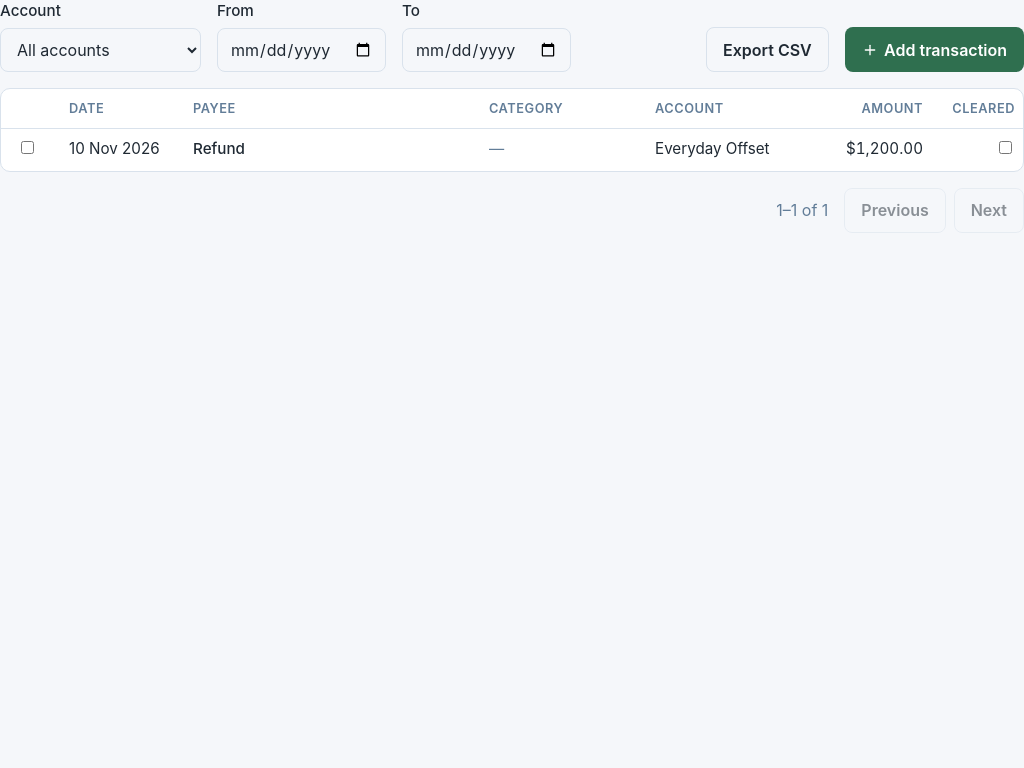
TransactionsPage › edits keep direction and amount; delete needs a second click
Click the text "Refund": click(219, 149) [193,139,245,158]
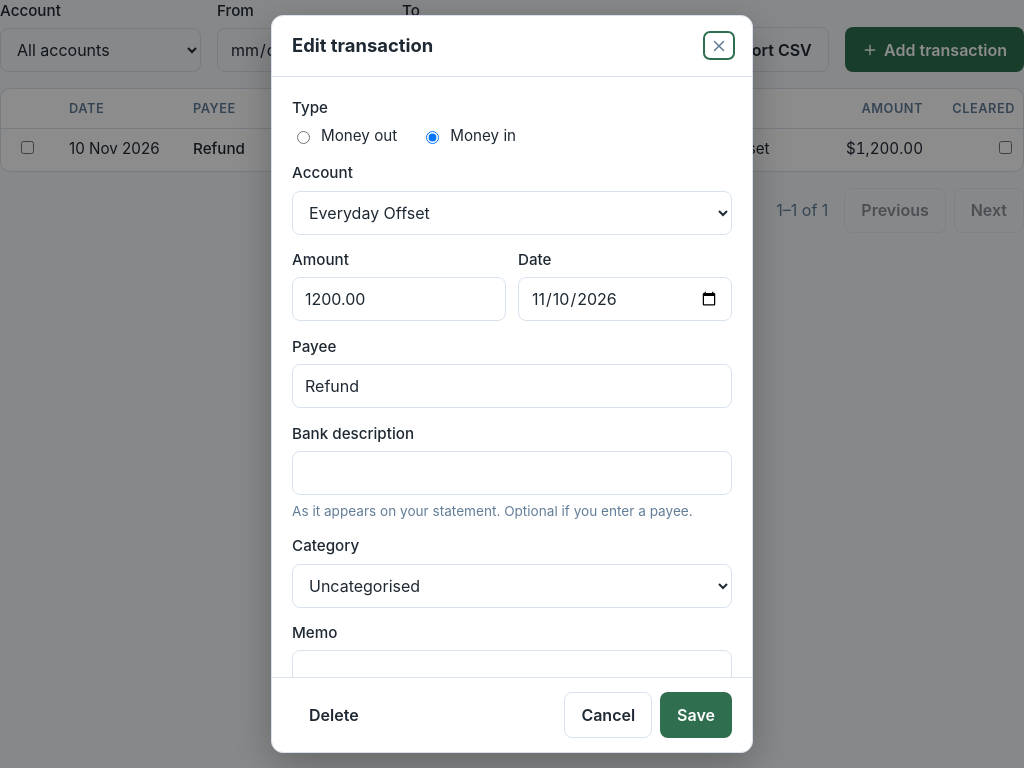
Expected: the radio button labelled "Money in" is checked, [426,131,439,144]
Expected: the field labelled "Amount" holds "1200.00", [292,277,506,321]
Click the button "Save": click(696, 715) [660,692,732,738]
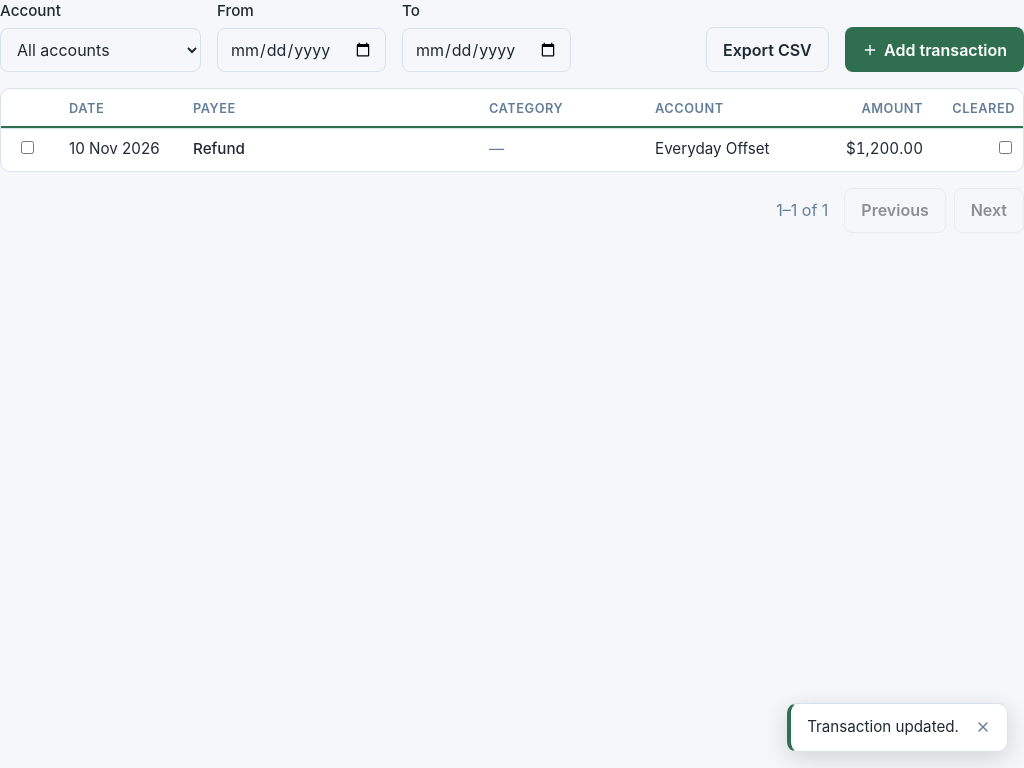
Click the text "Refund": click(219, 149) [193,139,245,158]
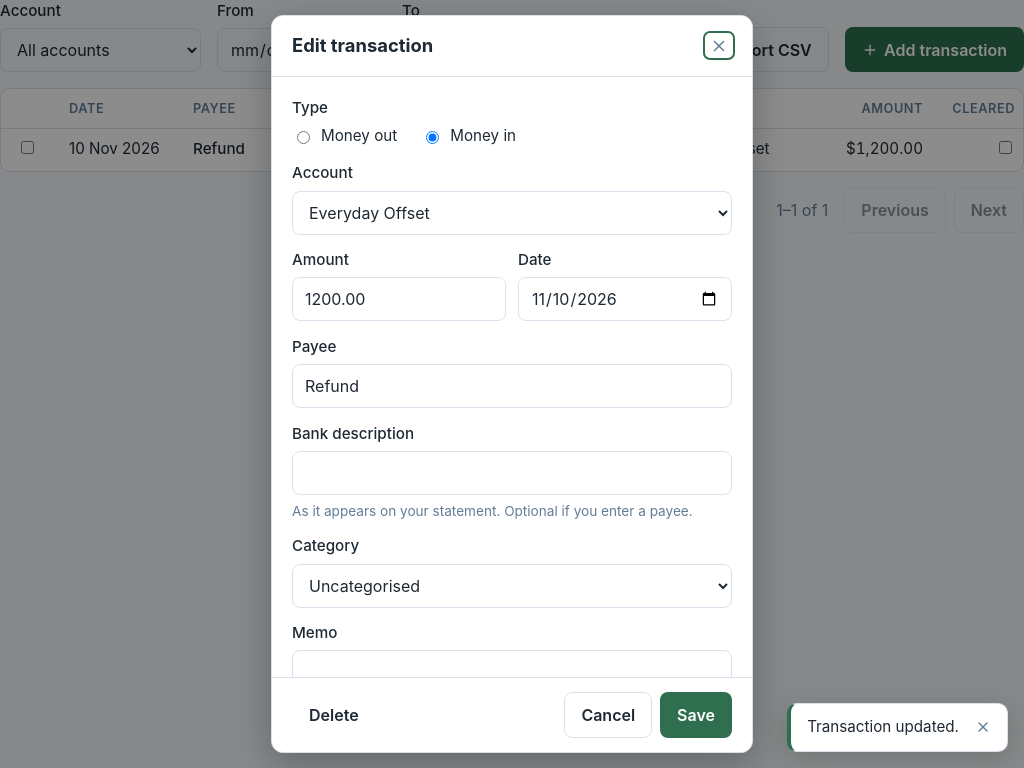
Click the button "Delete": click(334, 715) [292,692,376,738]
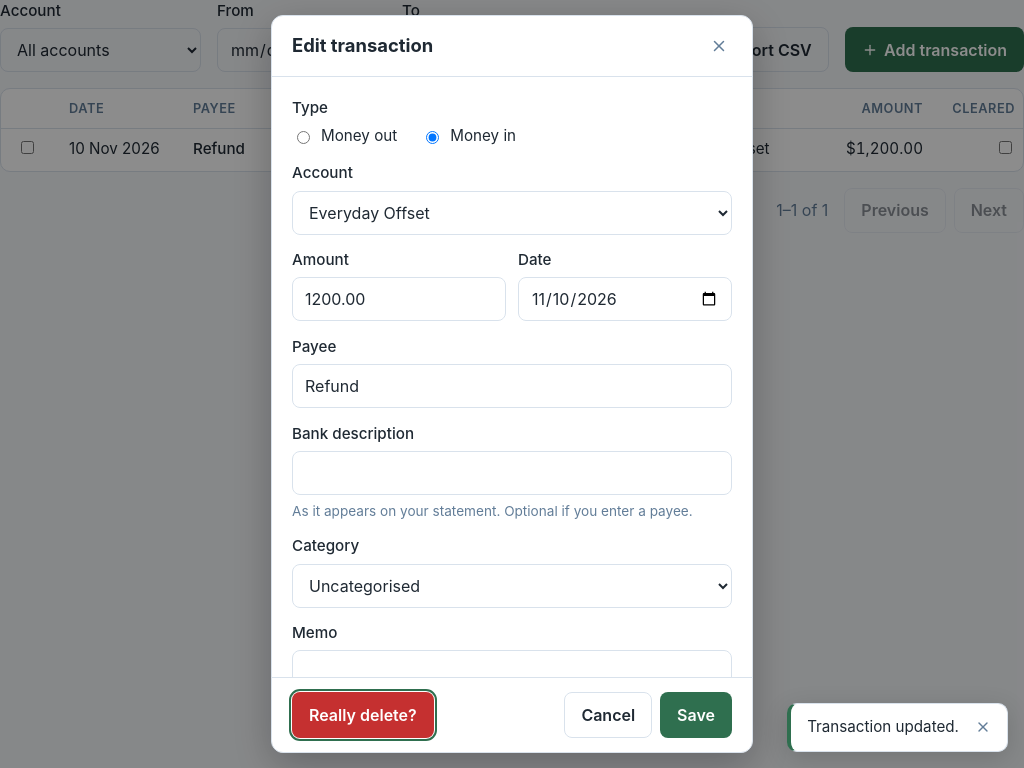
Click the button "Really delete?": click(363, 715) [292,692,434,738]
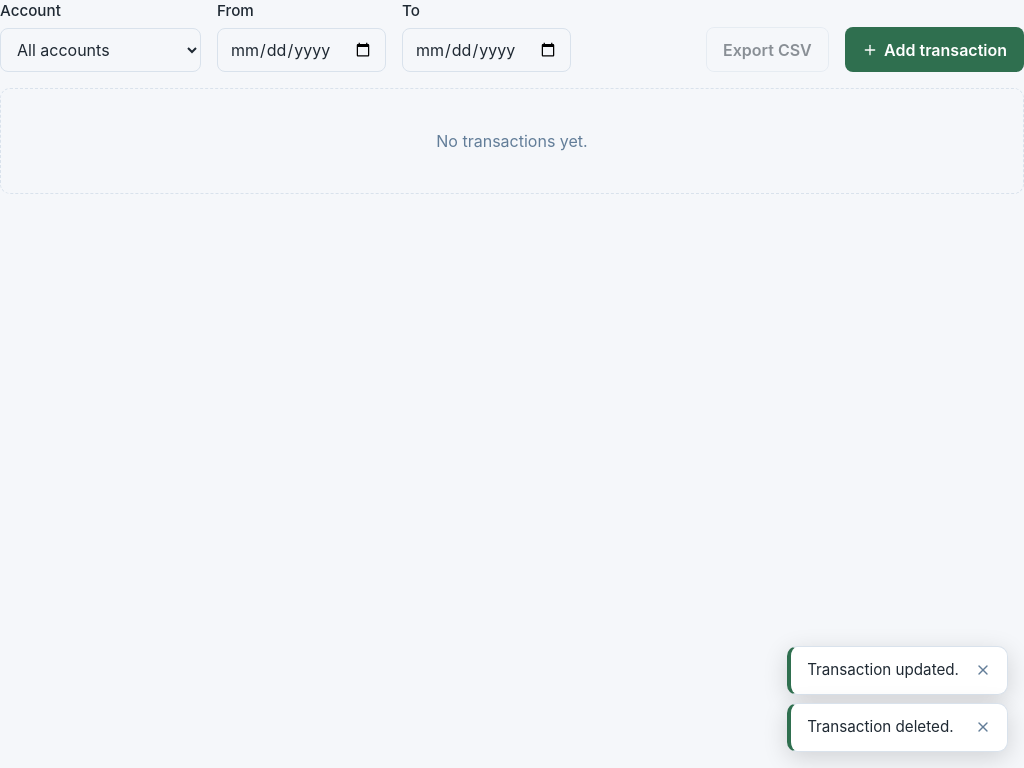
Expected: the text "No transactions yet." is shown, [0,88,1023,194]
